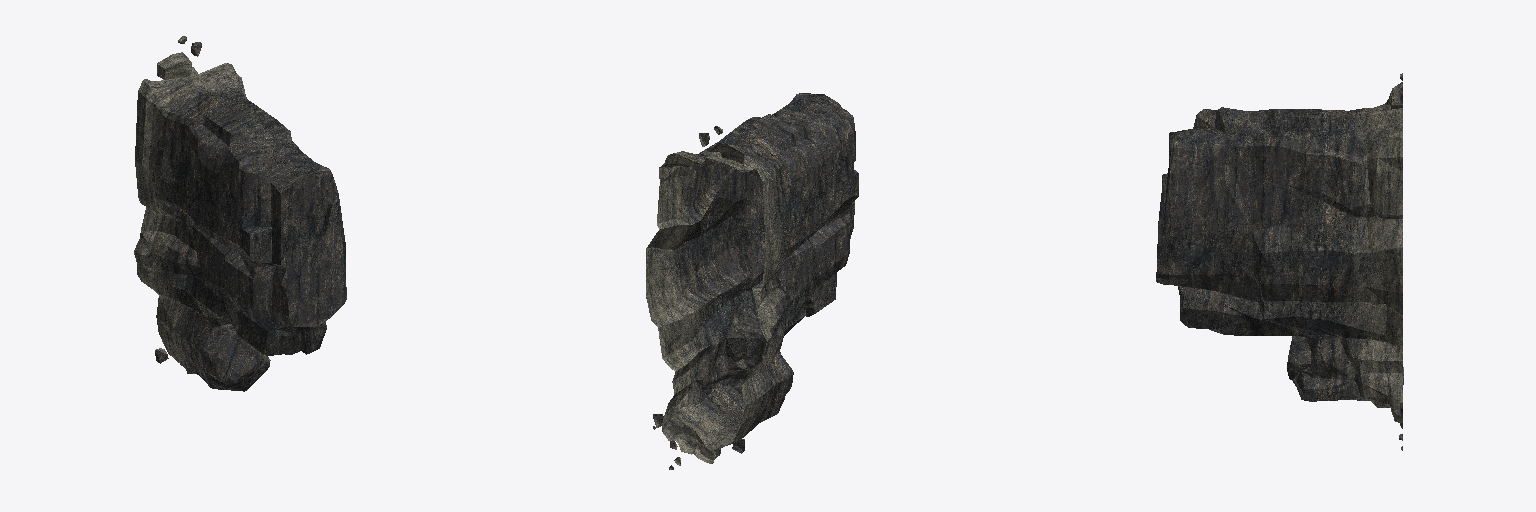
The picture shows the model from 3 angles: view 1: azimuth 30°, elevation 25°; view 2: azimuth 150°, elevation 25°; view 3: azimuth 270°, elevation 25°; orthographic projection.
Parts seen in each view (by area): view 1: Body.rock_desert_e.smd.mesh_0; view 2: Body.rock_desert_e.smd.mesh_0; view 3: Body.rock_desert_e.smd.mesh_0.
Part boxes in pixels (x1,y1,x2,y2): Body.rock_desert_e.smd.mesh_0: (134,36,346,391); Body.rock_desert_e.smd.mesh_0: (646,93,858,469); Body.rock_desert_e.smd.mesh_0: (1156,73,1403,450).
Bounding box in the file's own units: 164 × 461 × 290.
Materials: 1 (1 with a texture image).